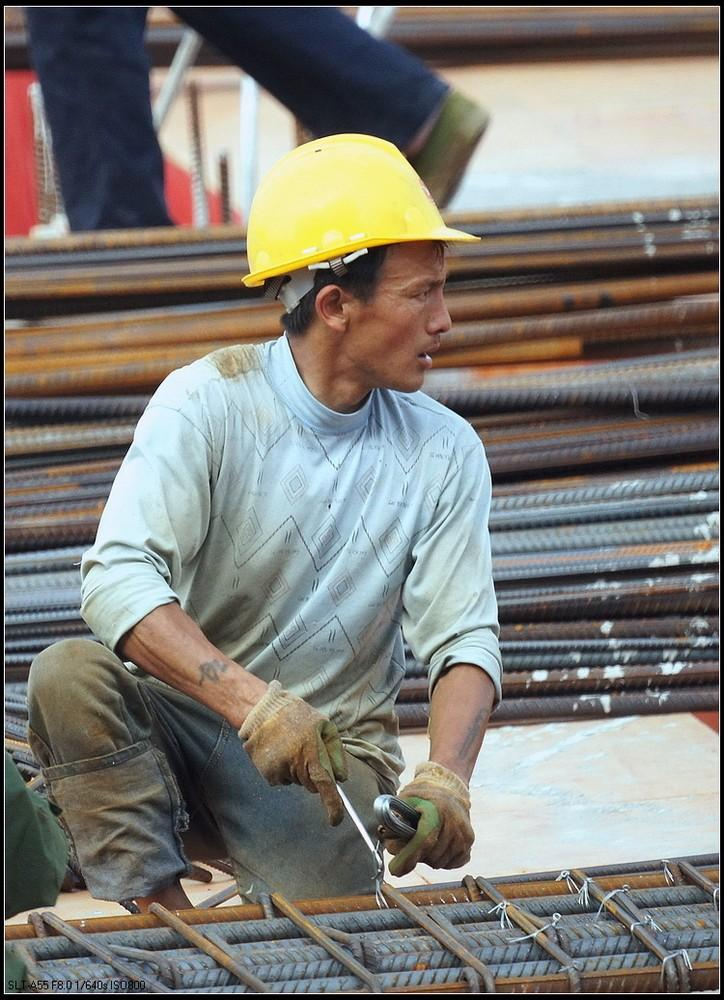helmet: (239, 131, 483, 291)
